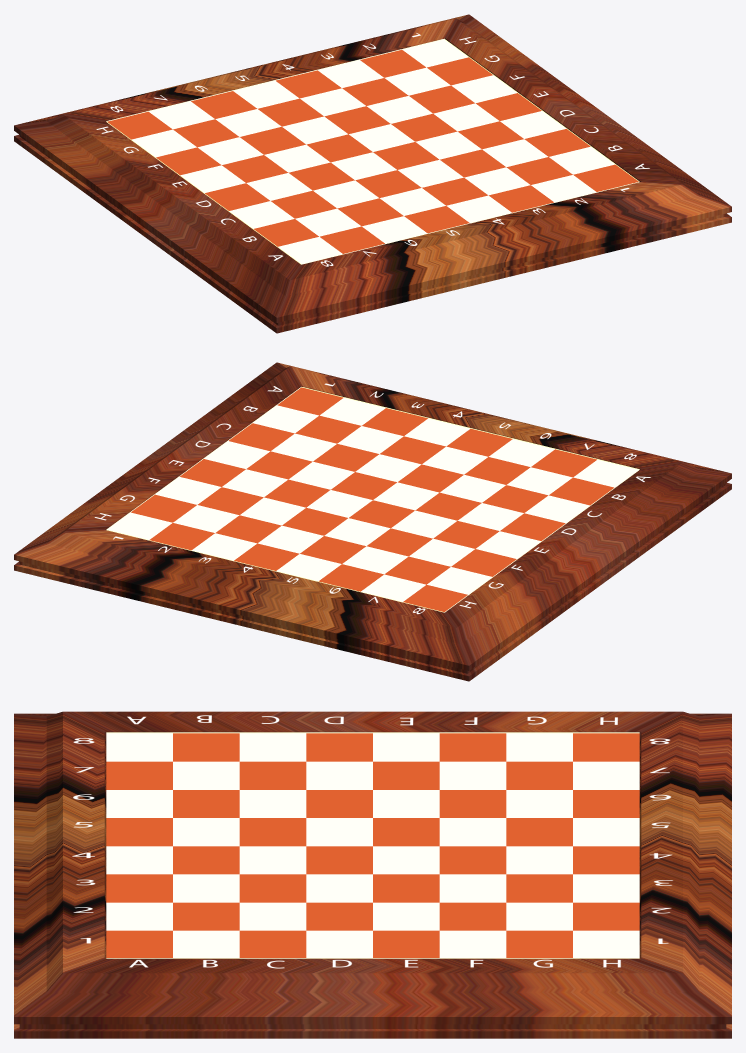
Rendered from Chess_Base.gltf.
The picture shows the model from 3 angles, top to bottom: view 1: azimuth 30°, elevation 25°; view 2: azimuth 150°, elevation 25°; view 3: azimuth 270°, elevation 25°; orthographic projection. The views are drawn at different scales.
Parts seen in each view (by area): view 1: Chess Board; view 2: Chess Board; view 3: Chess Board, LettereNeri, LettereBianchi, NumeriNeri, NumeriBianchi.
Boxes of the visible parts, x1,y1,x2,y2 form: Chess Board: [14, 14, 731, 333]; Chess Board: [14, 362, 731, 681]; Chess Board: [14, 711, 731, 1038]; LettereNeri: [127, 715, 617, 725]; LettereBianchi: [129, 959, 620, 968]; NumeriNeri: [649, 738, 672, 943]; NumeriBianchi: [72, 738, 95, 943].
Bounding box in the file's own units: 0.6459 × 0.0444 × 0.6459.
Materials: 7 (5 with a texture image).
